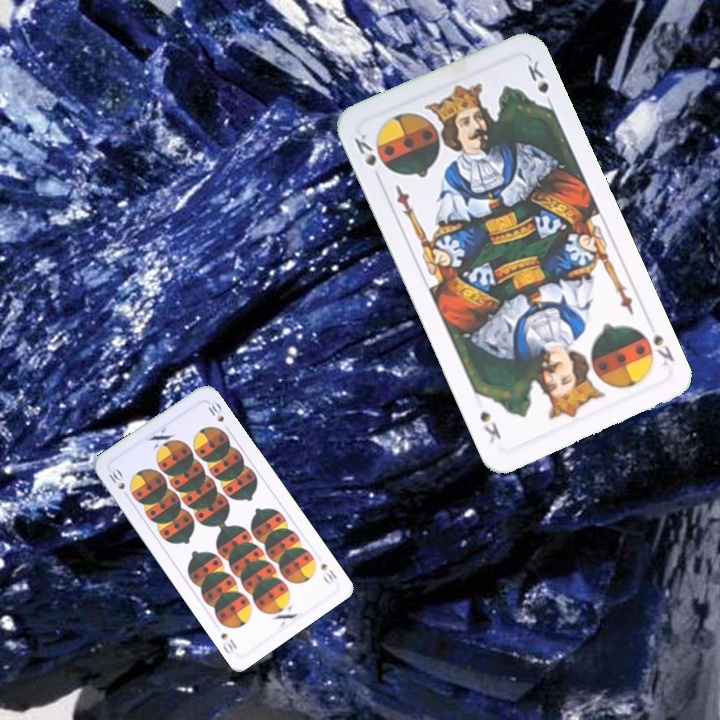S10: (102, 464, 132, 501), (316, 559, 340, 587)
SK: (350, 129, 379, 169), (649, 330, 677, 369)
